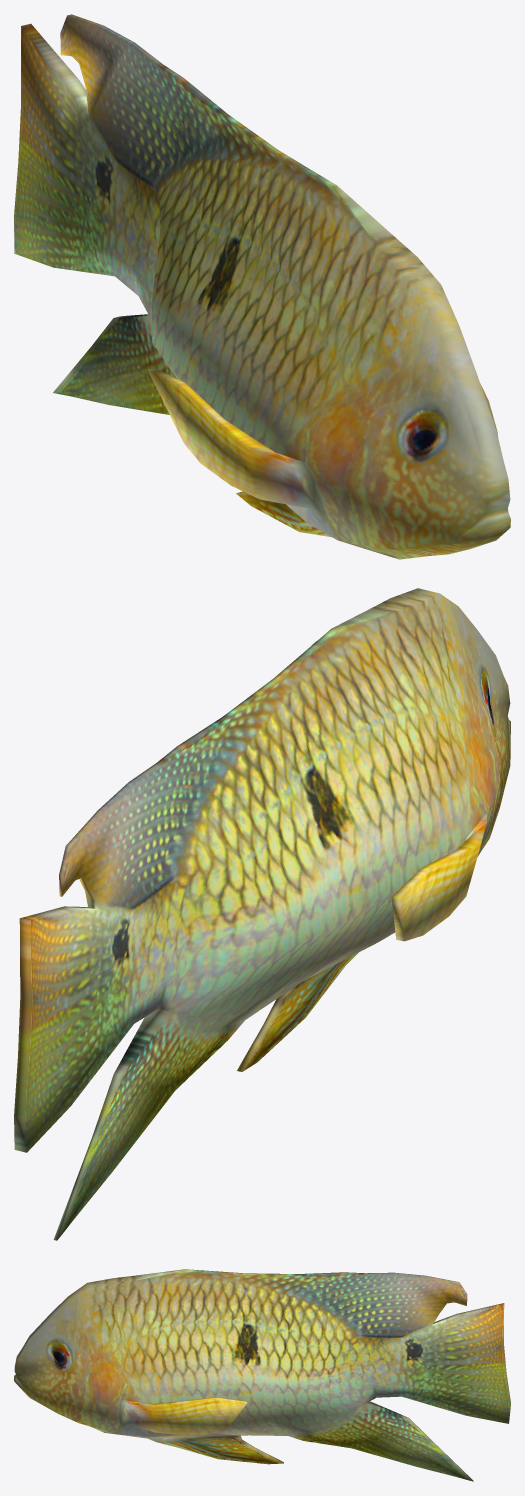
Rendered from TropicalFish_03.fbx.
The picture shows the model from 3 angles, top to bottom: view 1: azimuth 30°, elevation 25°; view 2: azimuth 150°, elevation 25°; view 3: azimuth 270°, elevation 25°; orthographic projection. The views are drawn at different scales.
Visible parts, largest first — view 1: TropicalFish03; view 2: TropicalFish03; view 3: TropicalFish03.
Part boxes in pixels (<box>): TropicalFish03: <box>14,14,510,559</box>; TropicalFish03: <box>14,588,510,1240</box>; TropicalFish03: <box>14,1269,510,1481</box>.
Bounding box in the file's own units: 1.74 × 2.67 × 5.7.
Materials: 1 (1 with a texture image).
